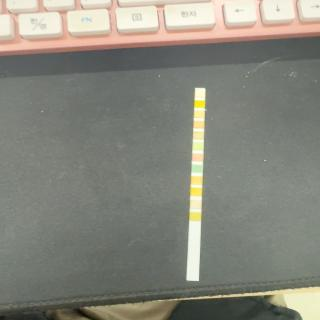mark: (188, 212, 202, 221), (190, 200, 202, 209), (191, 187, 202, 196), (192, 154, 204, 162), (193, 132, 204, 140), (193, 120, 204, 128), (194, 90, 205, 98), (193, 142, 203, 150), (195, 100, 205, 108), (191, 177, 202, 184), (192, 165, 203, 172), (194, 111, 204, 117)
